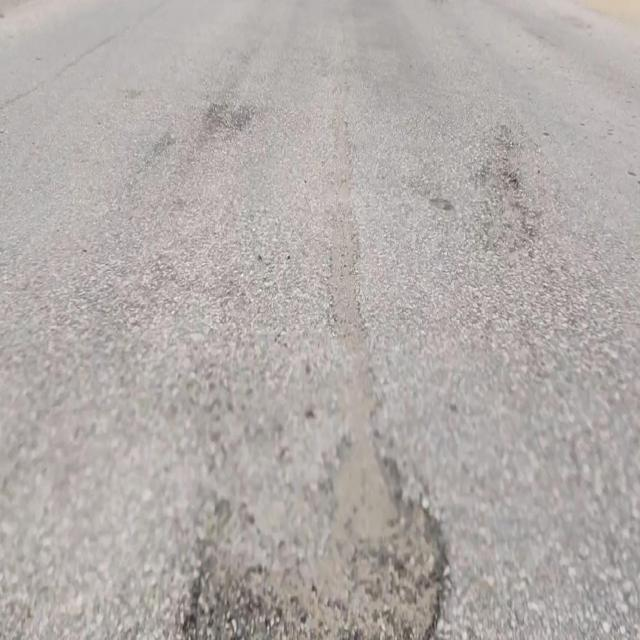Potholes: (175, 408, 452, 640)
